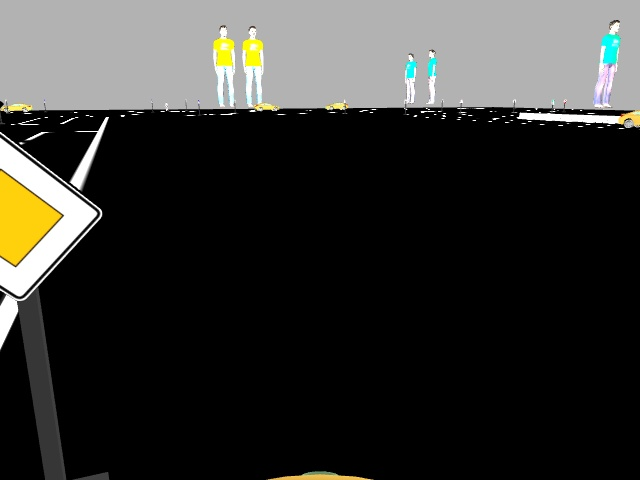Priority: (0, 130, 104, 297)
